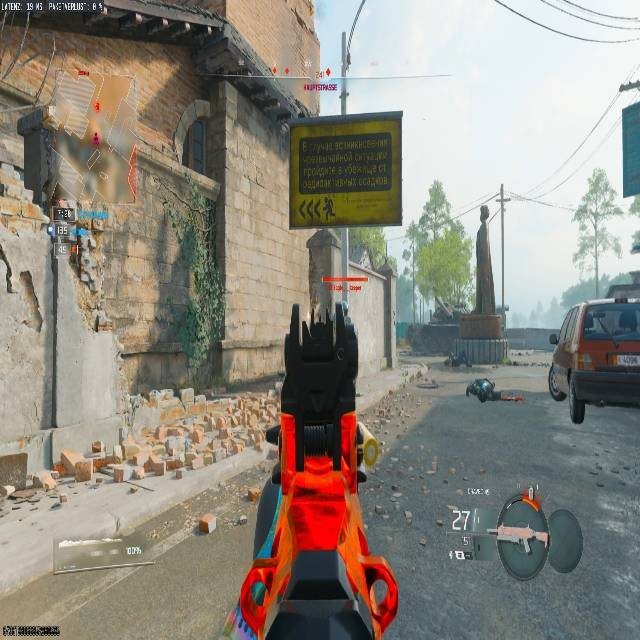player: (466, 376, 496, 401)
